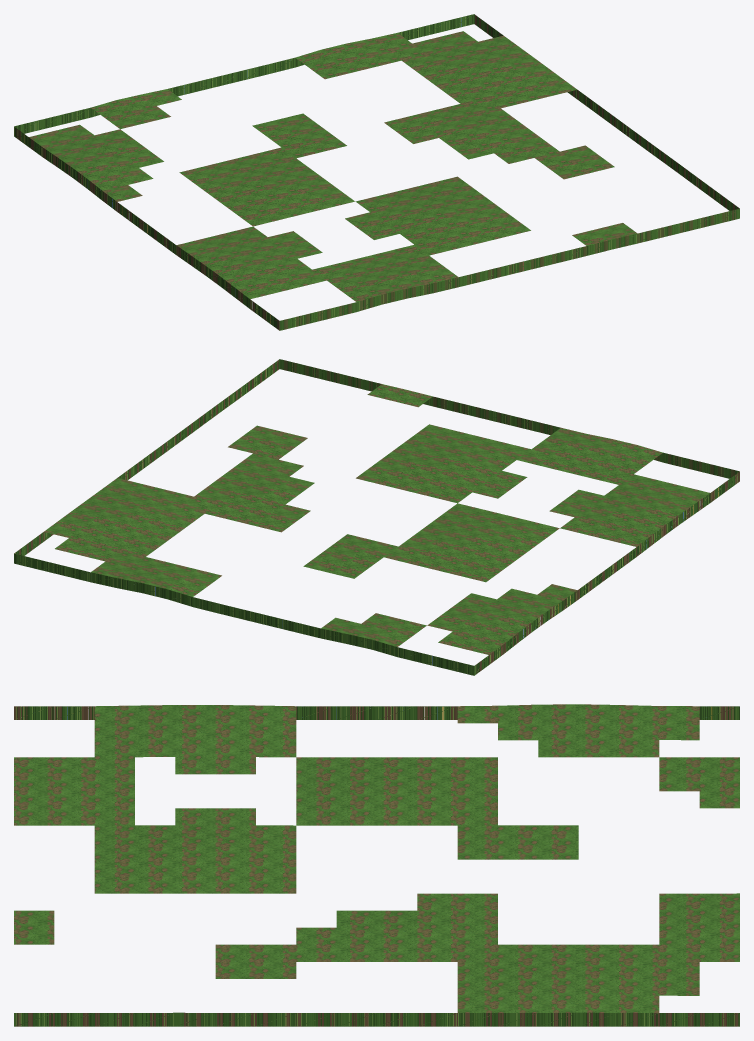
Rendered from rv_terrain_31.gltf.
3 renders of one model, top to bottom at view 1: azimuth 30°, elevation 25°; view 2: azimuth 150°, elevation 25°; view 3: azimuth 270°, elevation 25°, orthographic. The views are drawn at different scales.
Parts seen in each view (by area): view 1: RV_Terrain_31; view 2: RV_Terrain_31; view 3: RV_Terrain_31.
Part boxes in pixels (<box>): RV_Terrain_31: <box>14,14,739,330</box>; RV_Terrain_31: <box>14,359,739,675</box>; RV_Terrain_31: <box>14,704,739,1026</box>.
Size of the model in its own units: 72 by 1.8 by 72.
2 materials, 1 textured.
